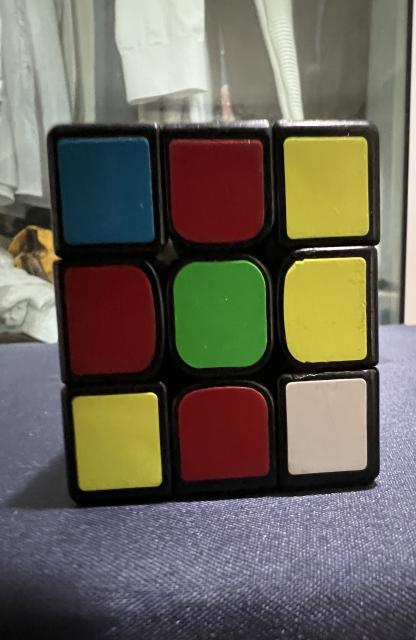Blue: (57, 136, 155, 245)
Green: (173, 260, 268, 369)
Red: (64, 265, 156, 375), (169, 139, 264, 244), (178, 386, 270, 481)
White: (286, 379, 367, 475)
Yellow: (72, 392, 162, 491), (284, 136, 369, 239), (284, 258, 367, 362)
